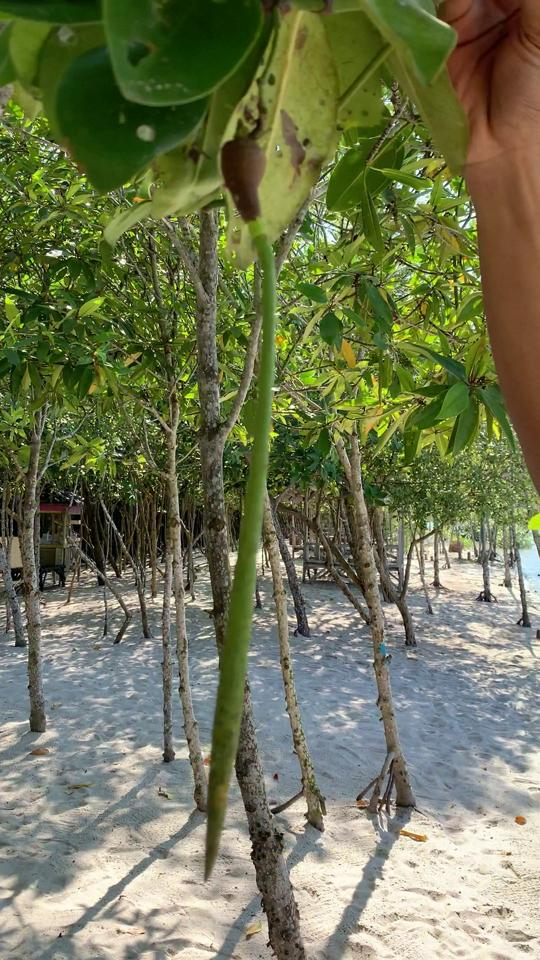setengah matang: (197, 119, 285, 889)
